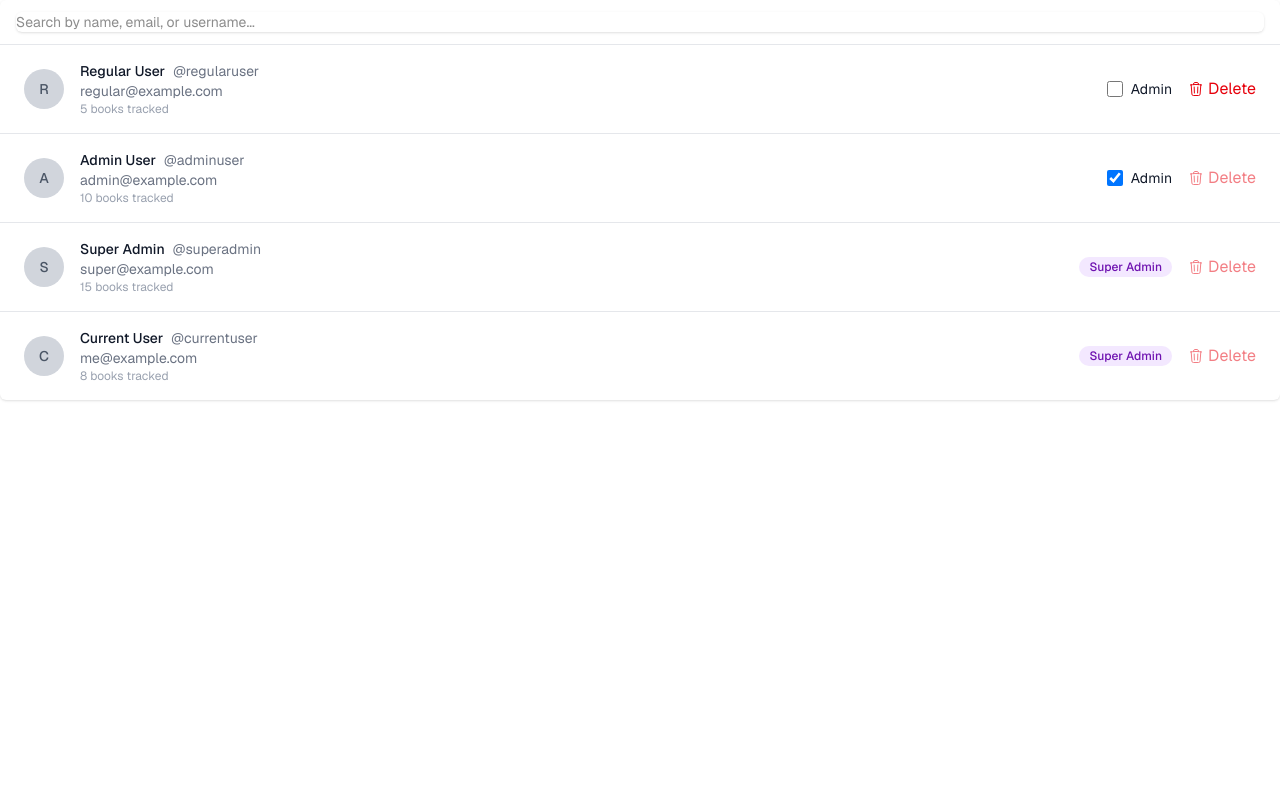
Test: AdminUserList Delete Functionality › clicking enabled delete button opens DeleteUserModal
Click the button "Delete" in the row of "regularuser" at (1222,89), box [1188, 76, 1256, 102]
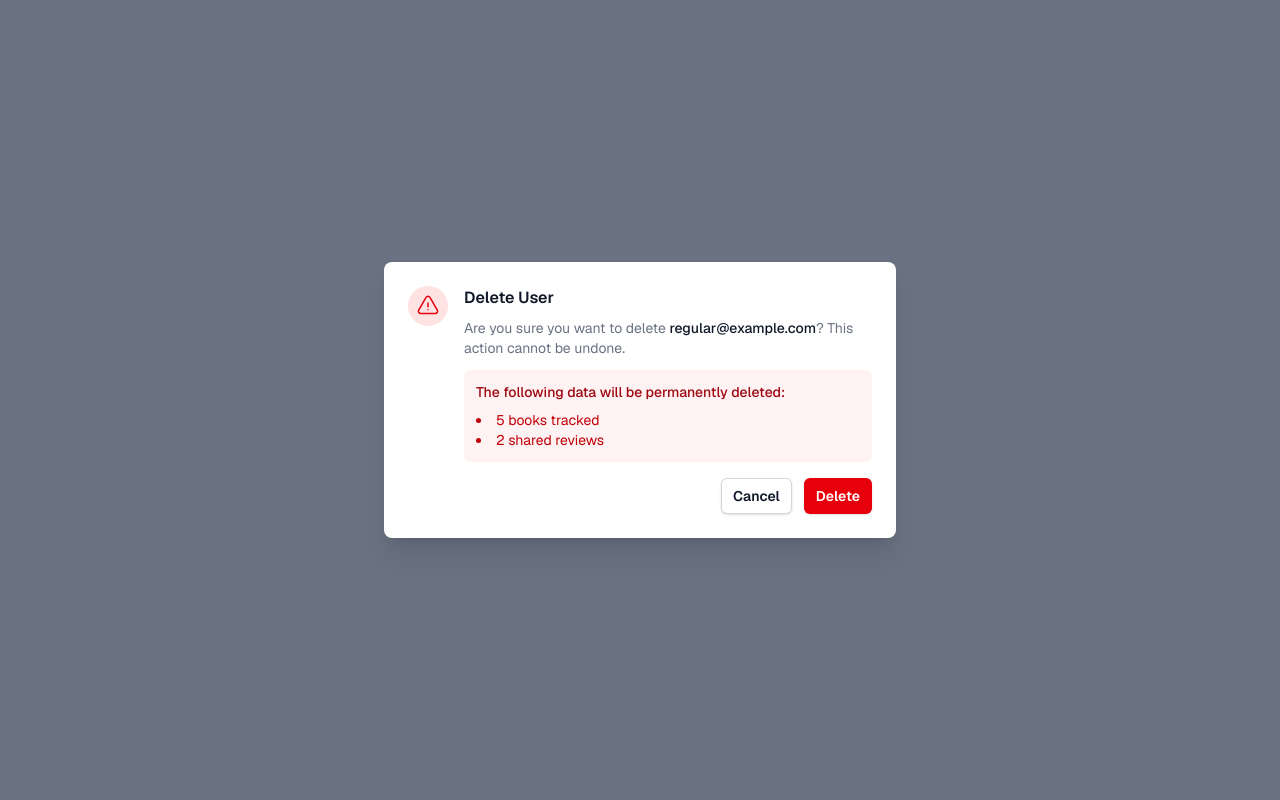
Result: the heading "Delete User" is shown at [464, 287, 554, 308]
